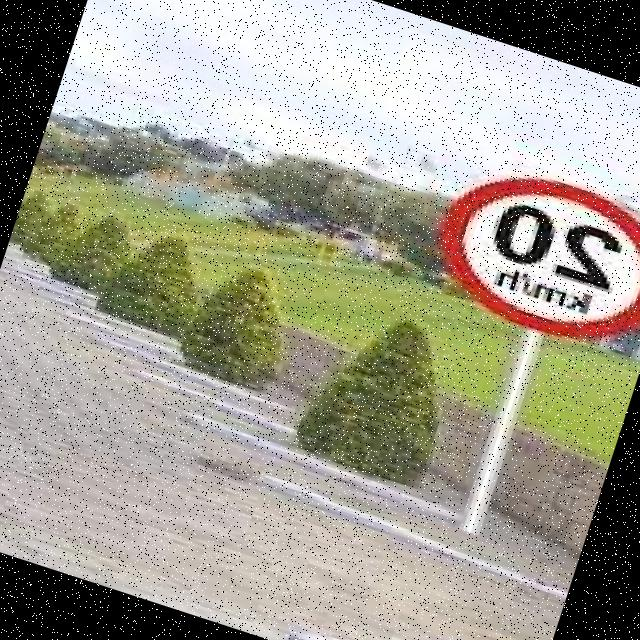speed_limit_20: (423, 147, 640, 364)
